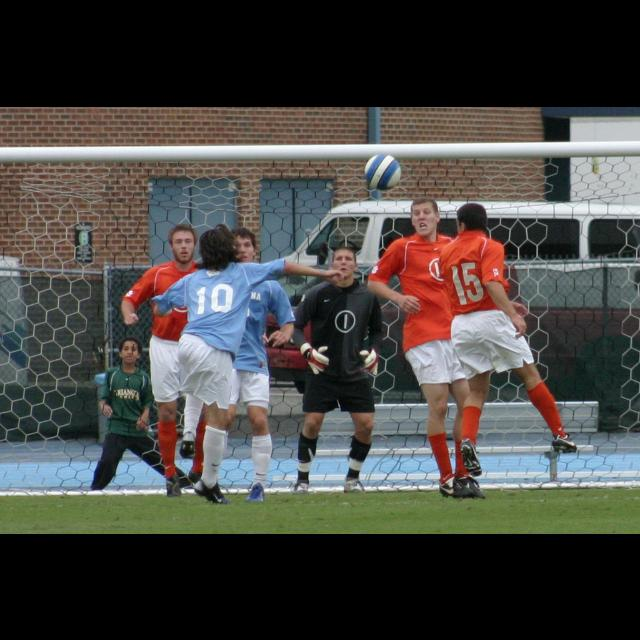Football: (364, 148, 402, 188)
